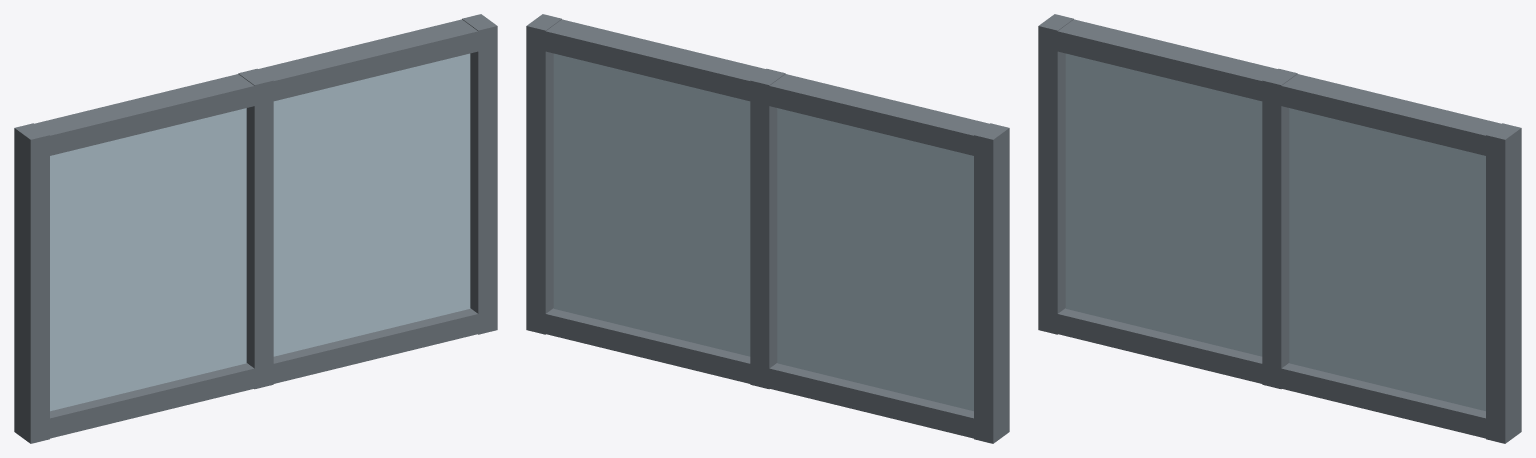
The model's file is window_bay01.glb.
3 views of the same model, side by side, from view 1: azimuth 30°, elevation 25°; view 2: azimuth 150°, elevation 25°; view 3: azimuth 330°, elevation 25° (orthographic).
Visible parts, largest first — view 1: glass, frame; view 2: glass, frame; view 3: glass, frame.
Part boxes in pixels (x1,y1,x2,y2): glass: (50, 53, 470, 411); frame: (14, 14, 497, 443); glass: (553, 53, 973, 411); frame: (526, 14, 1009, 443); glass: (1065, 53, 1485, 411); frame: (1038, 14, 1521, 443).
Size of the model in its own units: 1.82 by 1.13 by 0.11.
